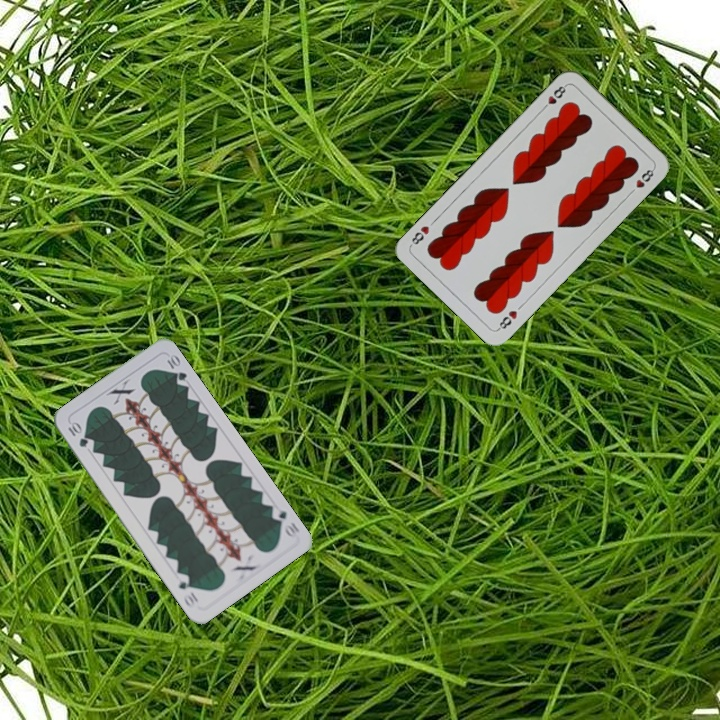G10: (267, 503, 302, 541), (64, 418, 91, 450)
H8: (538, 81, 570, 113), (493, 306, 520, 333)
